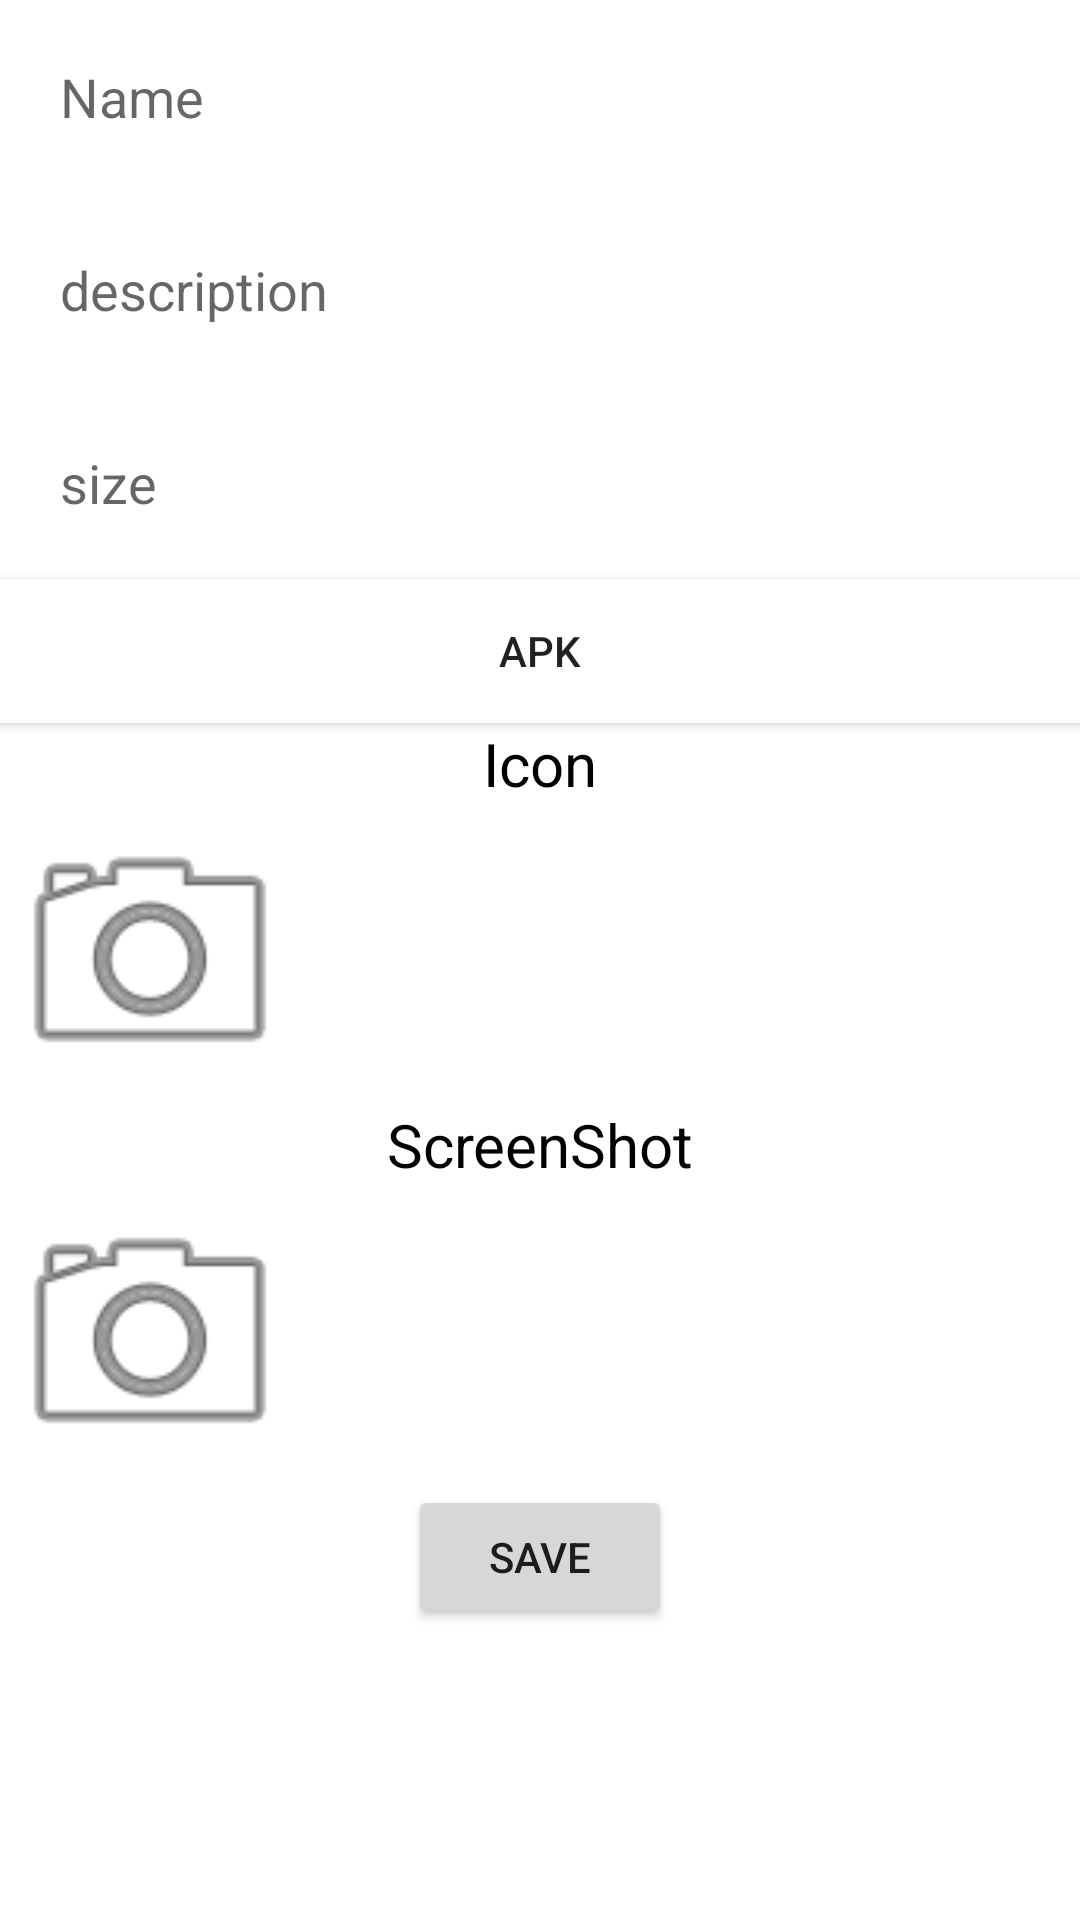

Icon click points for this 1080 x 1920 phone screenshot, format [x,y]:
camera: [150,949], [150,1330]
